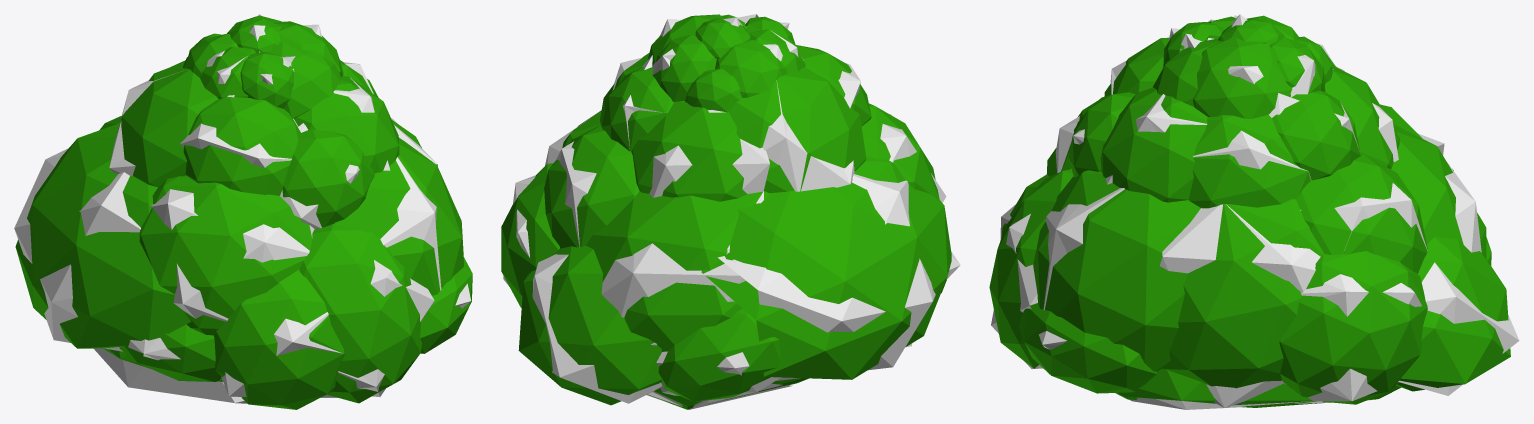
The model's file is agactepedeneme3.fbx.
3 views of the same model, side by side, from view 1: azimuth 30°, elevation 25°; view 2: azimuth 150°, elevation 25°; view 3: azimuth 270°, elevation 25° (orthographic). The views are drawn at different scales.
Visible parts, largest first — view 1: Icosphere.024, Icosphere.001; view 2: Icosphere.024, Icosphere.001; view 3: Icosphere.024, Icosphere.001.
Boxes of the visible parts, <box> form: Icosphere.024: <box>15,15,472,409</box>; Icosphere.001: <box>14,14,471,403</box>; Icosphere.024: <box>501,14,951,409</box>; Icosphere.001: <box>503,14,960,409</box>; Icosphere.024: <box>989,15,1510,407</box>; Icosphere.001: <box>991,14,1519,409</box>.
Size of the model in its own units: 17.21 by 13.33 by 18.9.
